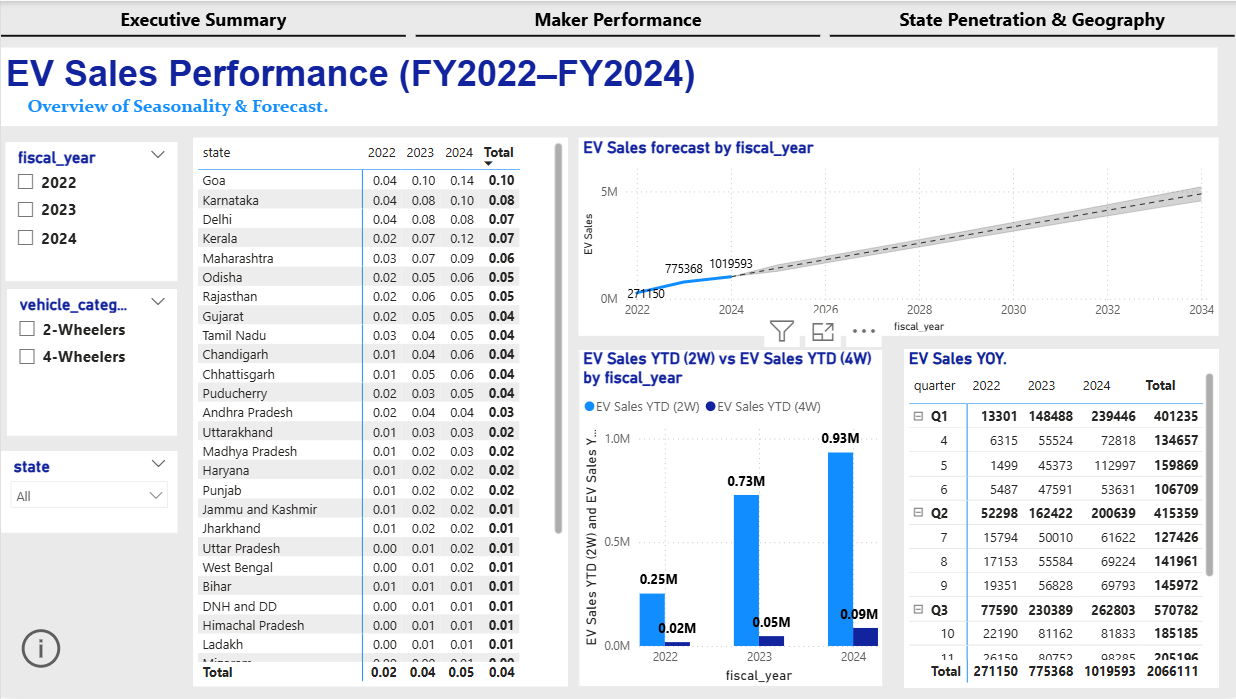

What the dashboard file says about the page in this screenshot:
{"tool":"powerbi","page":{"name":"Seasonality & Forecast","canvas":[1280,720],"ordinal":4},"visuals":[{"type":"pageNavigator","box":[0,0,1279.5,37.2],"z":0},{"type":"textbox","box":[0,48.2,1259.5,81.5],"z":1000},{"type":"actionButton","box":[16.2,644.6,155.1,51.7],"z":2000},{"type":"pivotTable","title":"EV Sales YOY.","fields":{"Values":["electric_vehicle_sales_by_makers.EV Sales"],"Rows":["dim_date.quarter","dim_date.Month"],"Columns":["dim_date.fiscal_year"]},"box":[934,359.6,325.8,350.1],"z":3000},{"type":"pivotTable","fields":{"Rows":["electric_vehicle_sales_by_state.state"],"Values":["electric_vehicle_sales_by_state.Penetration%"],"Columns":["dim_date.fiscal_year"]},"box":[198.7,141.9,387.9,567.7],"z":4000},{"type":"lineChart","title":"EV Sales forecast by fiscal_year","fields":{"Y":["electric_vehicle_sales_by_makers.EV Sales"],"Category":["dim_date.fiscal_year"]},"box":[597.5,141.9,662.3,205.5],"z":6000},{"type":"clusteredColumnChart","title":"EV Sales YTD (2W) vs EV Sales YTD (4W) by fiscal_year","fields":{"Y":["electric_vehicle_sales_by_makers.EV Sales YTD (2W)","electric_vehicle_sales_by_makers.EV Sales YTD (4W)"],"Category":["dim_date.fiscal_year"]},"box":[597.5,359.6,314.9,350.1],"z":7000},{"type":"slicer","fields":{"Values":["electric_vehicle_sales_by_state.state"]},"box":[0,465.2,182.8,84.6],"z":8000},{"type":"slicer","fields":{"Values":["electric_vehicle_sales_by_makers.vehicle_category"]},"box":[6.5,298.9,176.1,151.9],"z":9000},{"type":"slicer","fields":{"Values":["dim_date.fiscal_year"]},"box":[4.8,145.4,177.7,143.8],"z":10000}]}

Visuals, with their boxes in screenshot pixels (x1, y1, x2, y2), scaled from the page's 1280x720 canvas onto the 1236x699 screenshot:
pageNavigator: (0, 0, 1235, 36)
textbox: (0, 47, 1216, 126)
actionButton: (16, 626, 165, 676)
"EV Sales YOY." pivotTable: (902, 349, 1216, 689)
pivotTable - electric_vehicle_sales_by_state.state x electric_vehicle_sales_by_state.Penetration%: (192, 138, 566, 689)
"EV Sales forecast by fiscal_year" lineChart: (577, 138, 1216, 337)
"EV Sales YTD (2W) vs EV Sales YTD (4W) by fiscal_year" clusteredColumnChart: (577, 349, 881, 689)
slicer - electric_vehicle_sales_by_state.state: (0, 452, 177, 534)
slicer - electric_vehicle_sales_by_makers.vehicle_category: (6, 290, 176, 438)
slicer - dim_date.fiscal_year: (5, 141, 176, 281)
